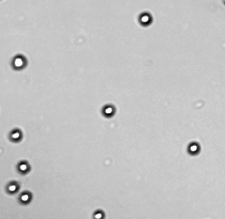Living Cell: (100, 101, 117, 118), (11, 53, 27, 70), (8, 126, 24, 143), (186, 139, 202, 155), (138, 10, 154, 26), (16, 159, 32, 174), (18, 190, 33, 205), (5, 180, 20, 194)
